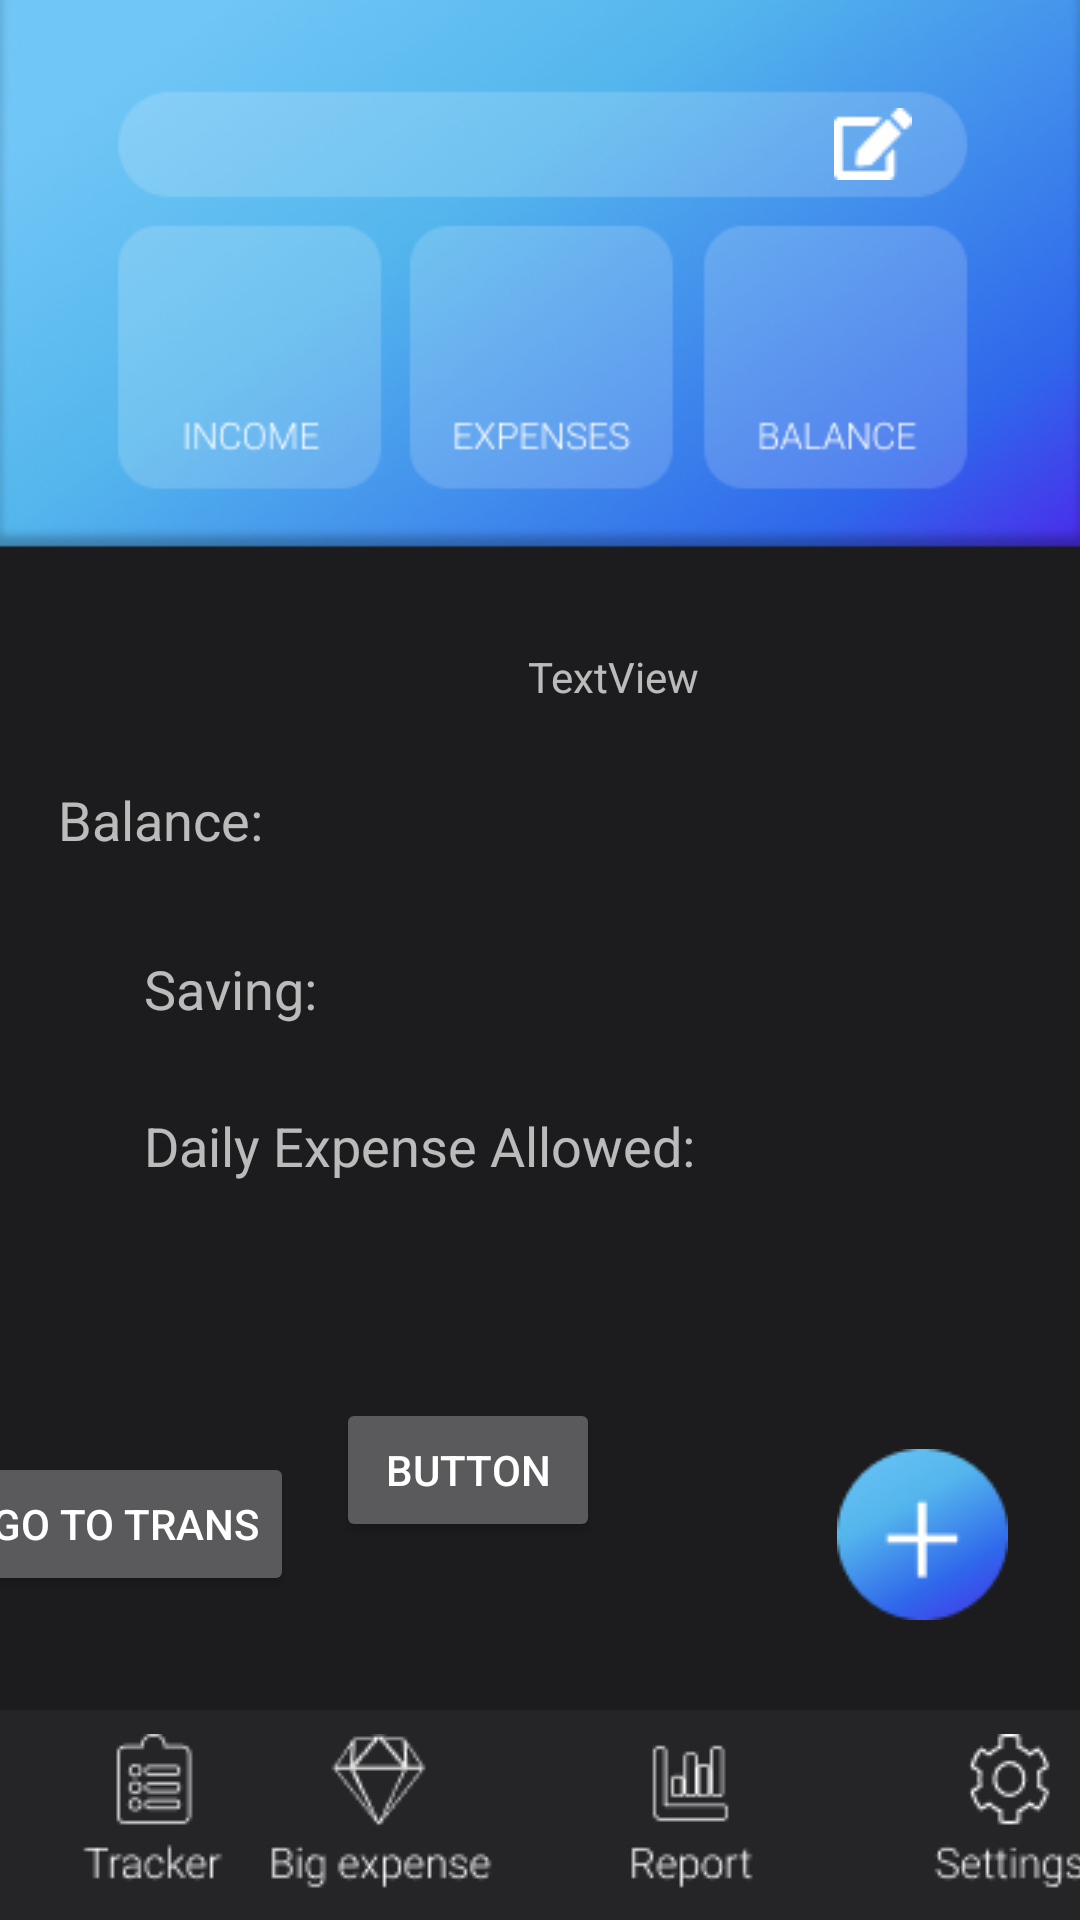

Locate icon controls on the screen. Image size 1080×1920, boxes as {"x1": x1, "y1": y1, "x2": x2, "y2": y2}.
btnadd: {"x1": 837, "y1": 1449, "x2": 1008, "y2": 1620}
btnedit: {"x1": 834, "y1": 108, "x2": 912, "y2": 180}
